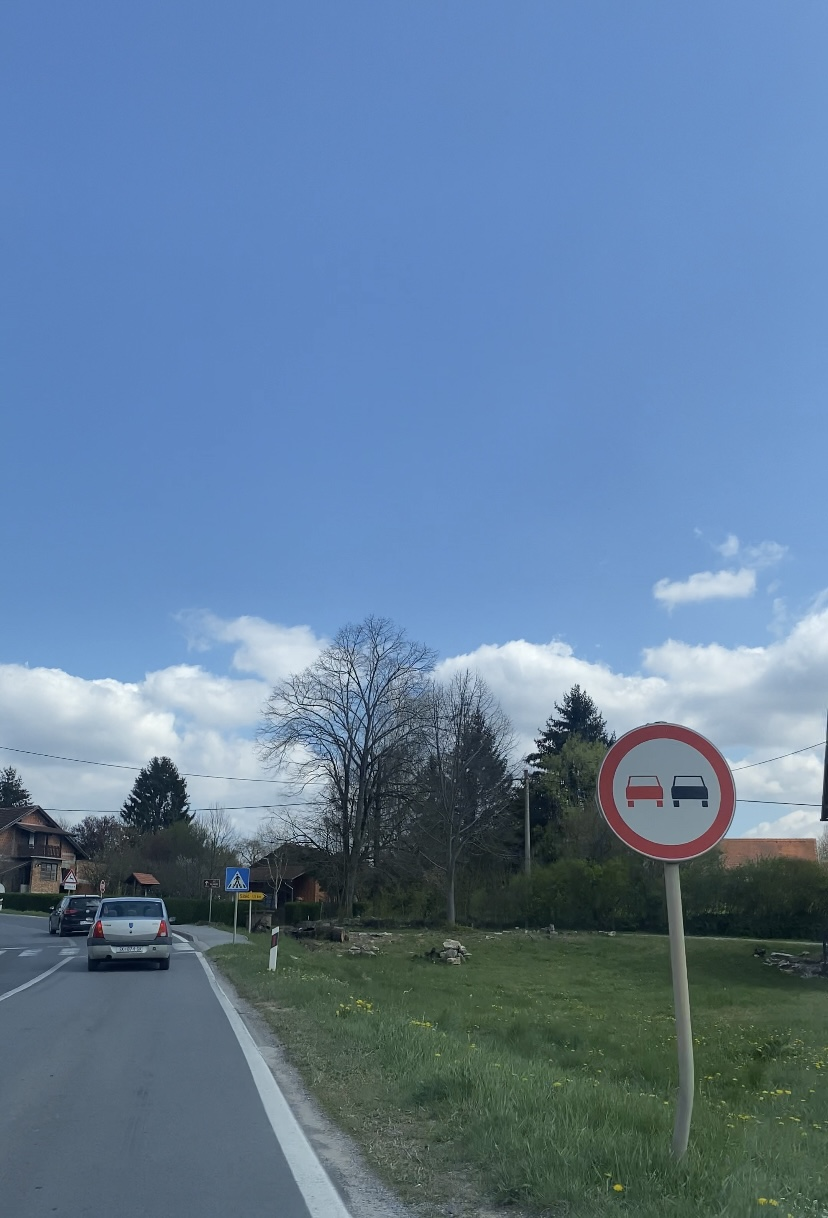Pješački prijelaz: (225, 866, 250, 892)
Zabrana pretjecanja: (597, 721, 737, 862)
